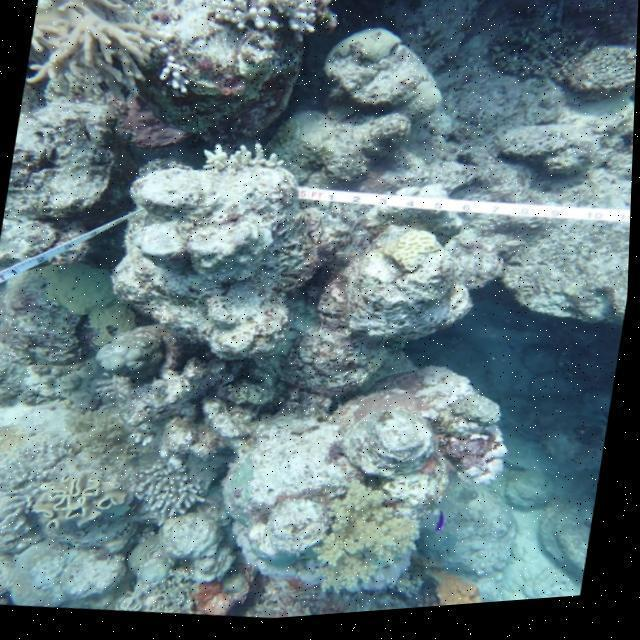Bleached Coral: (116, 437, 233, 548), (0, 415, 88, 559), (238, 0, 346, 58), (185, 132, 286, 190), (149, 38, 206, 108)
